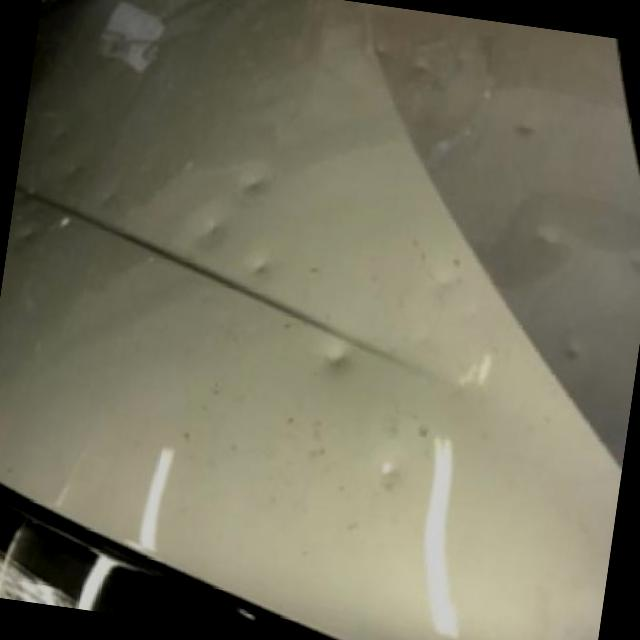dent: (238, 170, 271, 204), (198, 212, 230, 246), (537, 224, 569, 254), (320, 343, 350, 372), (558, 337, 584, 366), (377, 459, 405, 484), (66, 160, 88, 182), (514, 118, 535, 140), (626, 245, 640, 277), (98, 190, 120, 210), (20, 220, 39, 243), (248, 258, 268, 279), (53, 127, 68, 143)
